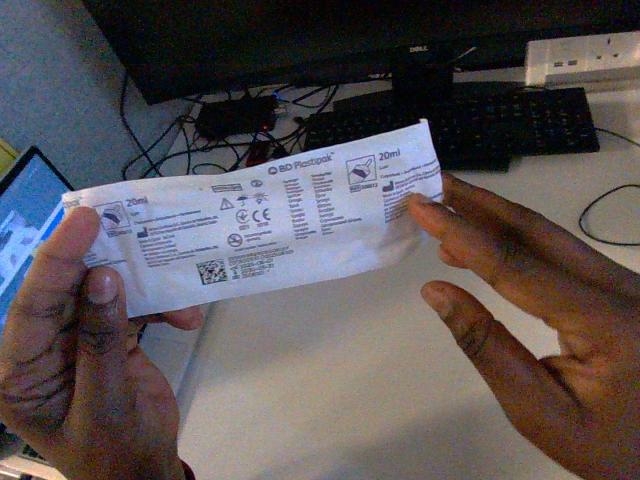syringe: (63, 123, 441, 315)
